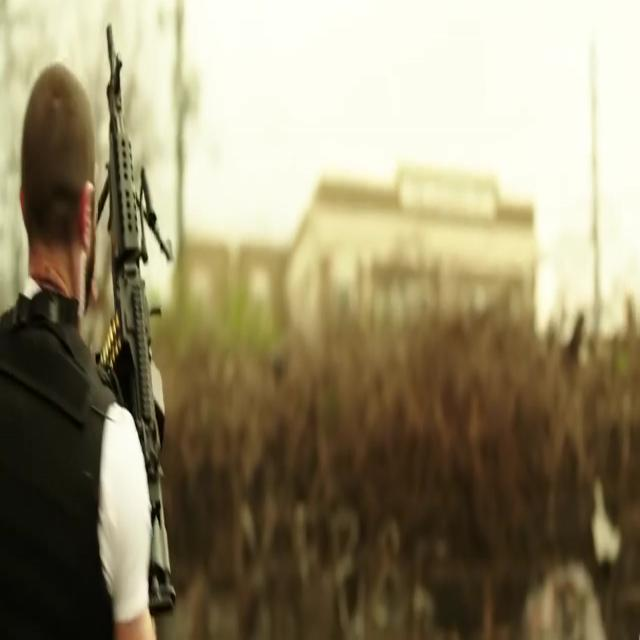Weapon: (97, 22, 200, 578)
